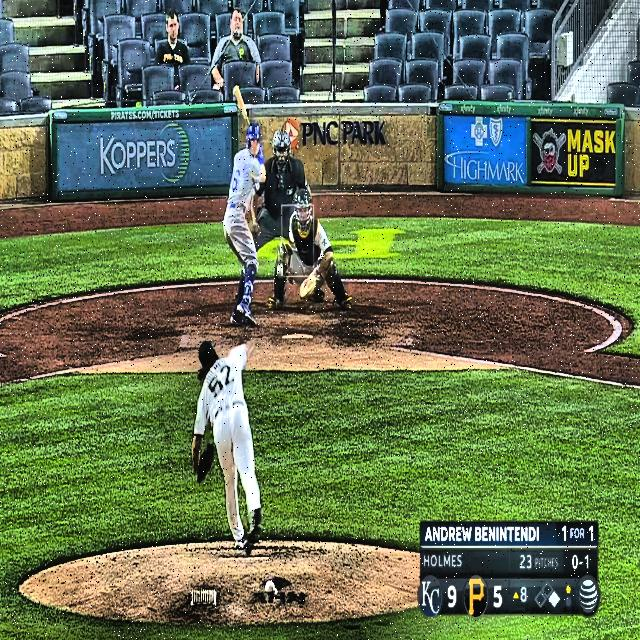baseball: (275, 262, 284, 279)
